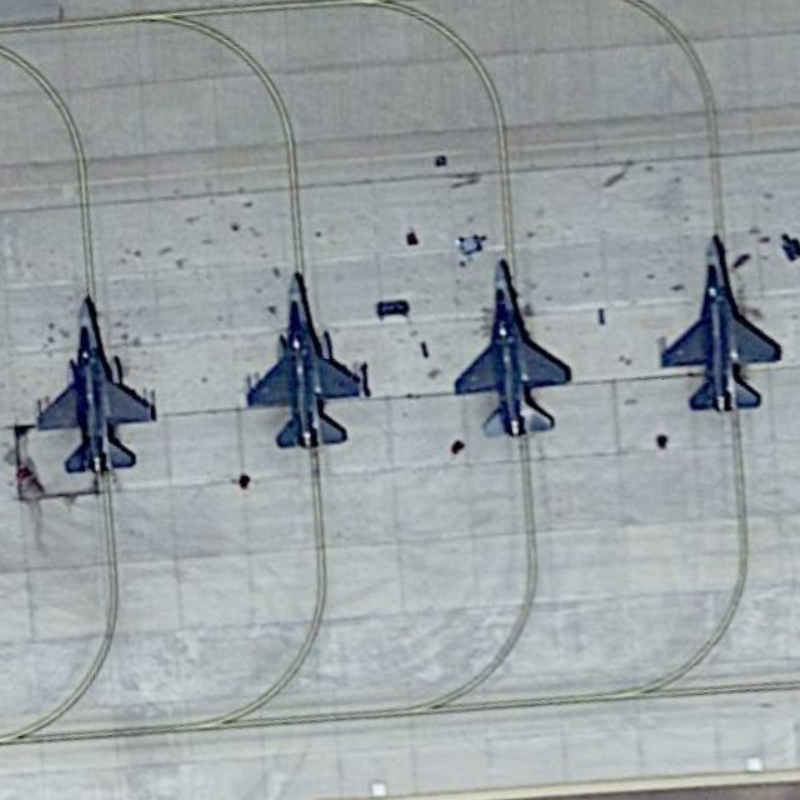A5: (30, 289, 166, 485), (237, 267, 378, 455), (656, 224, 787, 420), (452, 250, 576, 444)
